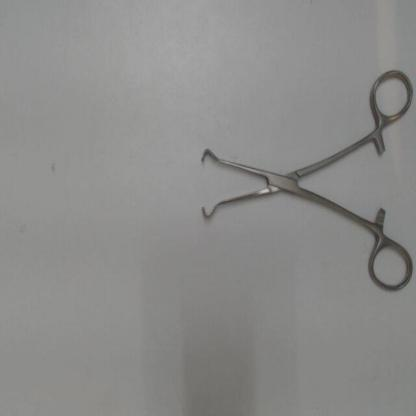Babcock Tissue Forceps: (192, 62, 414, 299)
